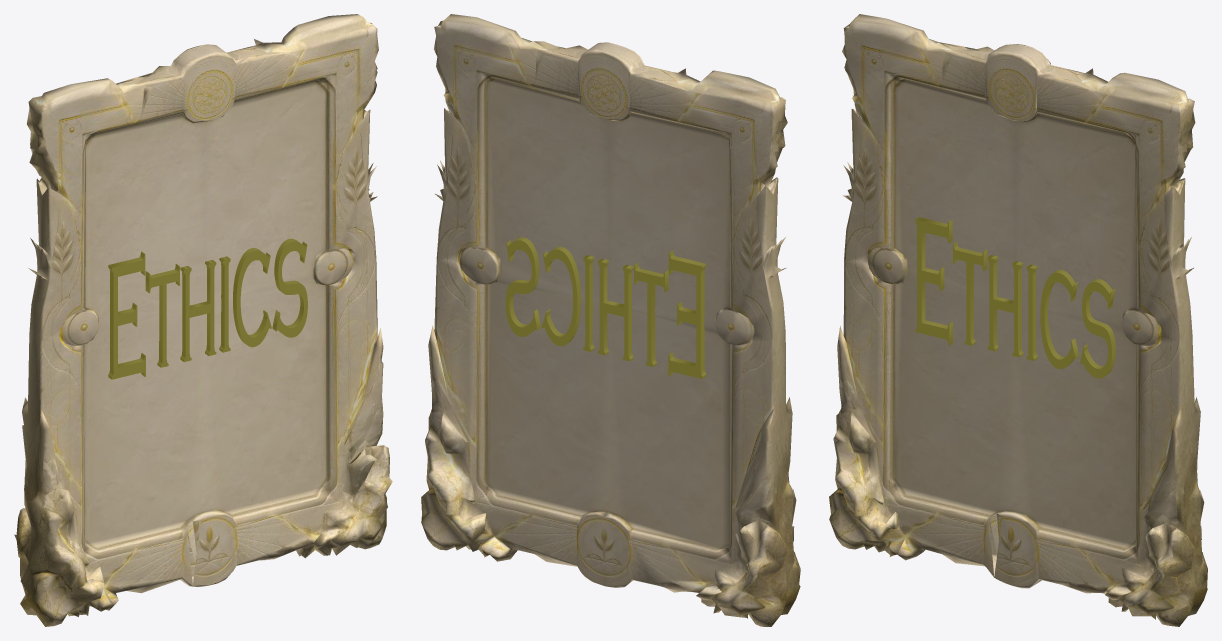
File: plaque_ethics.glb
3 renders of one model, left to right at view 1: azimuth 30°, elevation 25°; view 2: azimuth 150°, elevation 25°; view 3: azimuth 330°, elevation 25°, orthographic.
Visible parts, largest first — view 1: mesh_node, Tekst; view 2: mesh_node, Tekst; view 3: mesh_node, Tekst.
Boxes of the visible parts, box(x1,y1,x2,y2) form: mesh_node: box(14, 14, 392, 626); Tekst: box(108, 238, 307, 379); mesh_node: box(421, 14, 800, 626); Tekst: box(505, 237, 706, 378); mesh_node: box(829, 14, 1207, 626); Tekst: box(915, 217, 1115, 378).
Size of the model in its own units: 0.7129 by 1 by 0.1489.
2 materials, 1 textured.
